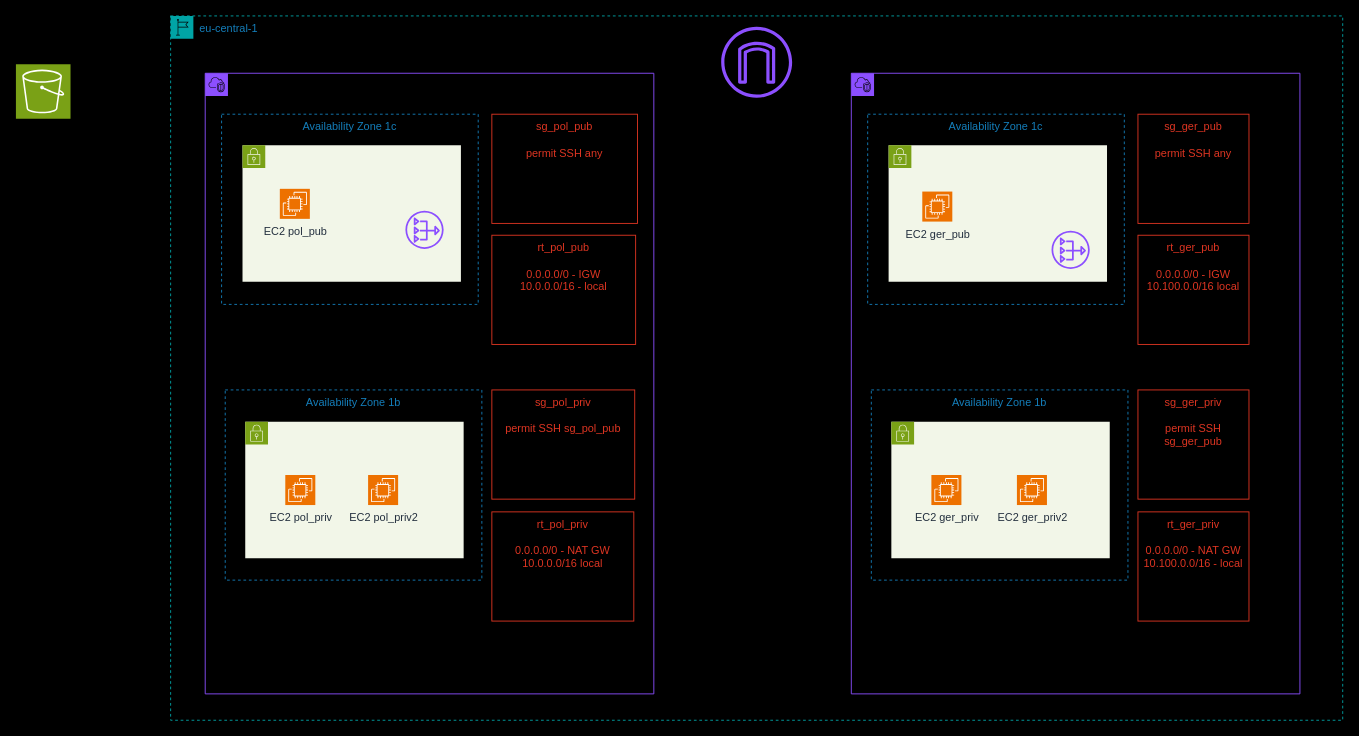
The diagram is 1359 pixels wide and 736 high, and some of its shapes have lost their labels. The box of each missing label's shape, as (x1, y1, x2, y2) in pixels:
s_ger_priv 10.100.2.0/24: (890, 421, 1110, 558)
s_ger_pub 10.100.1.0/24: (888, 144, 1107, 282)
s_pol_priv 10.0.2.0/24: (244, 421, 464, 558)
s_pol_pub 10.0.1.0/24: (242, 144, 461, 282)
VPC Germany 10.100.0.0/16: (850, 72, 1300, 694)
VPC Poland 10.0.0.0/16: (204, 72, 654, 694)
